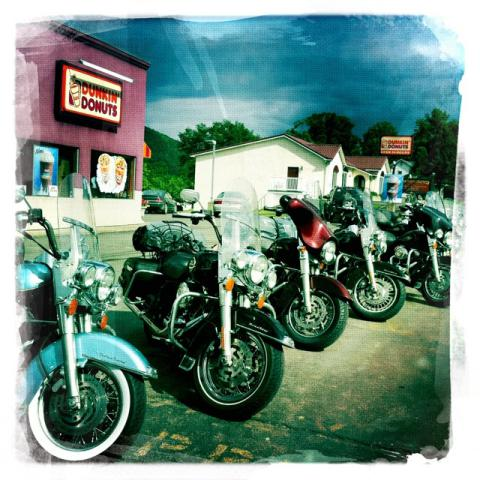car: (142, 190, 177, 214), (213, 191, 224, 218)
motorcycle: (107, 178, 286, 427), (19, 173, 156, 467), (338, 190, 464, 306), (261, 195, 355, 350), (337, 188, 411, 322)
